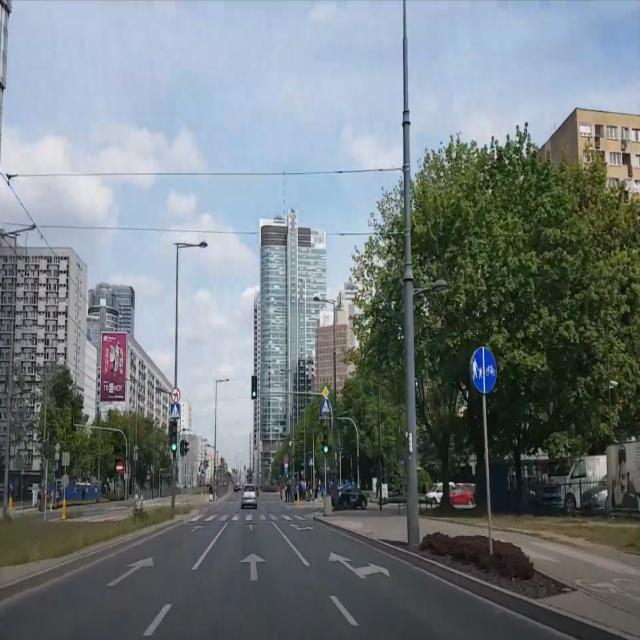Droga z pierwszenstwem: (322, 385, 329, 399)
Zakaz wjazdu: (115, 461, 124, 475)
Zakaz zatrzymywania sie: (282, 454, 286, 466)
